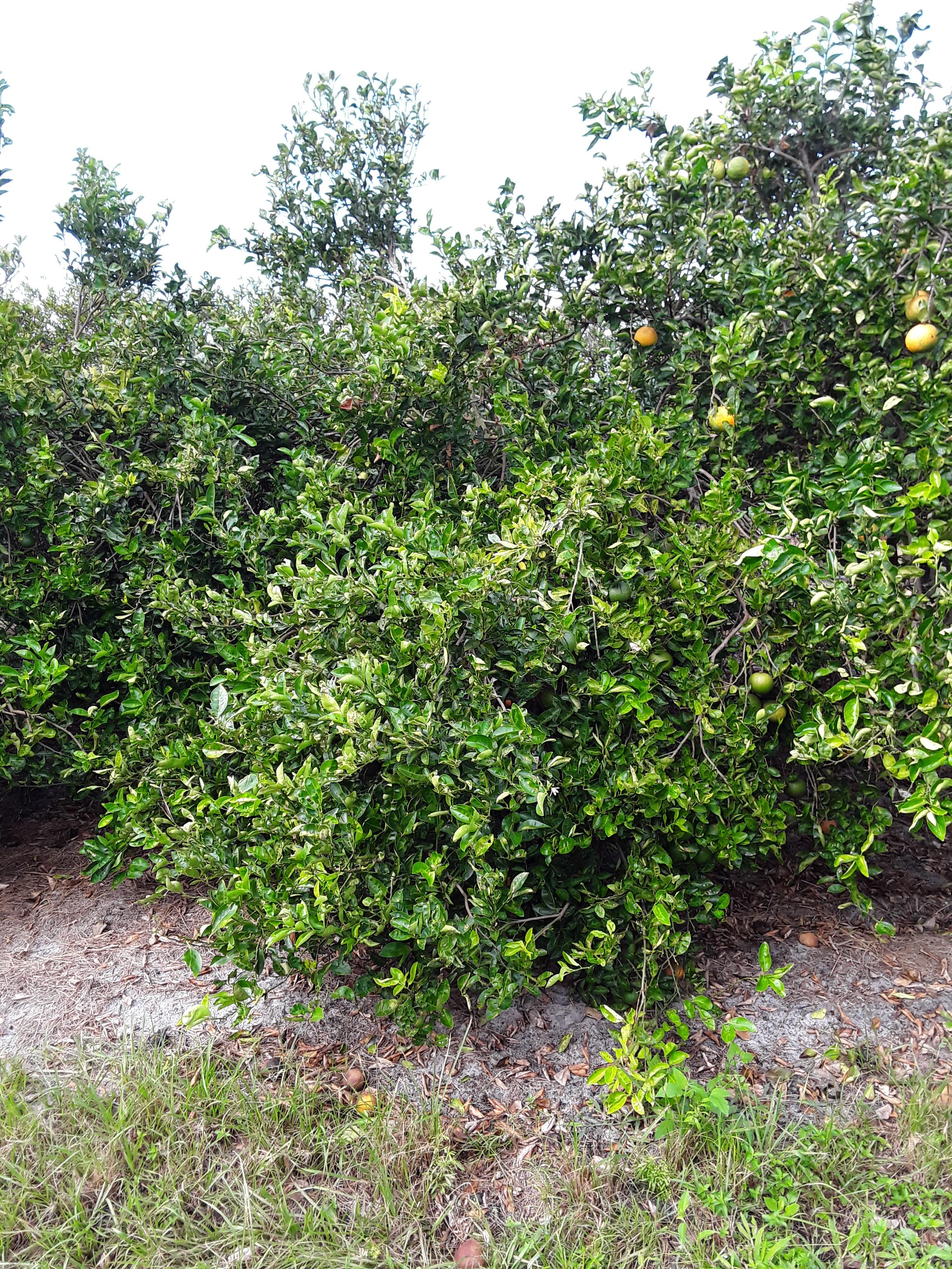fruit_on_ground: (900, 287, 936, 323), (902, 320, 940, 353), (526, 684, 560, 717), (705, 402, 738, 435), (746, 667, 778, 696), (602, 577, 634, 605), (630, 322, 662, 350), (645, 645, 675, 674), (782, 773, 810, 801), (760, 699, 790, 725), (552, 629, 580, 655), (725, 153, 751, 181), (13, 525, 39, 550), (693, 845, 718, 868), (705, 156, 728, 181), (818, 816, 841, 836), (681, 127, 701, 145)
fruit_on_tree: (452, 1234, 488, 1269), (351, 1090, 383, 1119), (340, 1064, 368, 1092), (661, 958, 689, 982), (794, 928, 821, 950), (619, 986, 641, 1009)
